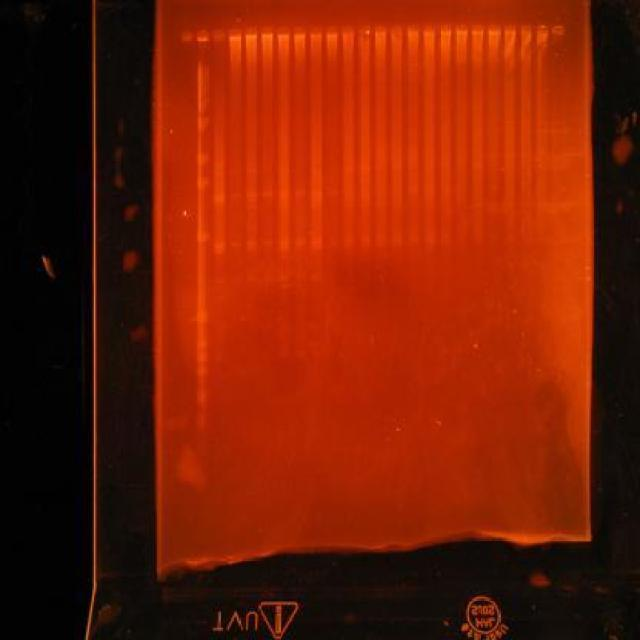B: (276, 274, 290, 282), (342, 237, 355, 245), (359, 235, 372, 243), (246, 274, 257, 282), (277, 240, 291, 246), (310, 240, 324, 246), (310, 244, 324, 250), (260, 244, 274, 250), (244, 192, 258, 198), (260, 192, 274, 198), (228, 192, 242, 198), (228, 198, 242, 204), (277, 167, 291, 173), (406, 188, 420, 194), (212, 243, 225, 249), (212, 248, 225, 254), (245, 240, 258, 246), (261, 240, 274, 246), (245, 196, 258, 202), (212, 194, 225, 200), (212, 200, 225, 206), (245, 168, 258, 174), (212, 162, 225, 168), (212, 170, 225, 176), (342, 166, 355, 172), (325, 190, 338, 196), (294, 238, 306, 244), (294, 244, 306, 250), (278, 203, 290, 209), (278, 197, 290, 203), (277, 192, 291, 197), (213, 280, 224, 286), (229, 242, 242, 247), (245, 246, 258, 251), (358, 243, 371, 248), (278, 246, 290, 251), (294, 191, 304, 197), (342, 244, 355, 248)
L: (175, 22, 568, 44)
M: (194, 58, 212, 436)
P: (197, 116, 211, 133), (197, 412, 210, 430), (196, 151, 210, 167), (198, 98, 210, 115), (196, 310, 210, 324), (197, 177, 211, 191), (197, 391, 210, 406), (196, 352, 210, 363), (197, 366, 210, 377), (196, 232, 210, 242), (196, 90, 210, 99), (196, 341, 210, 348)
Pc: (275, 22, 291, 40), (469, 21, 486, 37), (292, 23, 308, 40), (357, 24, 372, 40), (390, 21, 404, 37), (340, 23, 356, 37), (308, 24, 324, 38), (487, 22, 502, 36), (438, 22, 453, 36), (324, 24, 339, 38), (421, 22, 437, 35), (244, 26, 258, 40), (260, 24, 274, 38), (550, 24, 564, 38), (536, 23, 550, 37), (519, 22, 533, 36), (503, 24, 517, 38), (456, 22, 470, 36), (406, 23, 420, 37), (374, 24, 388, 38), (180, 31, 194, 44), (196, 31, 210, 44), (212, 29, 226, 42), (228, 28, 242, 40)
